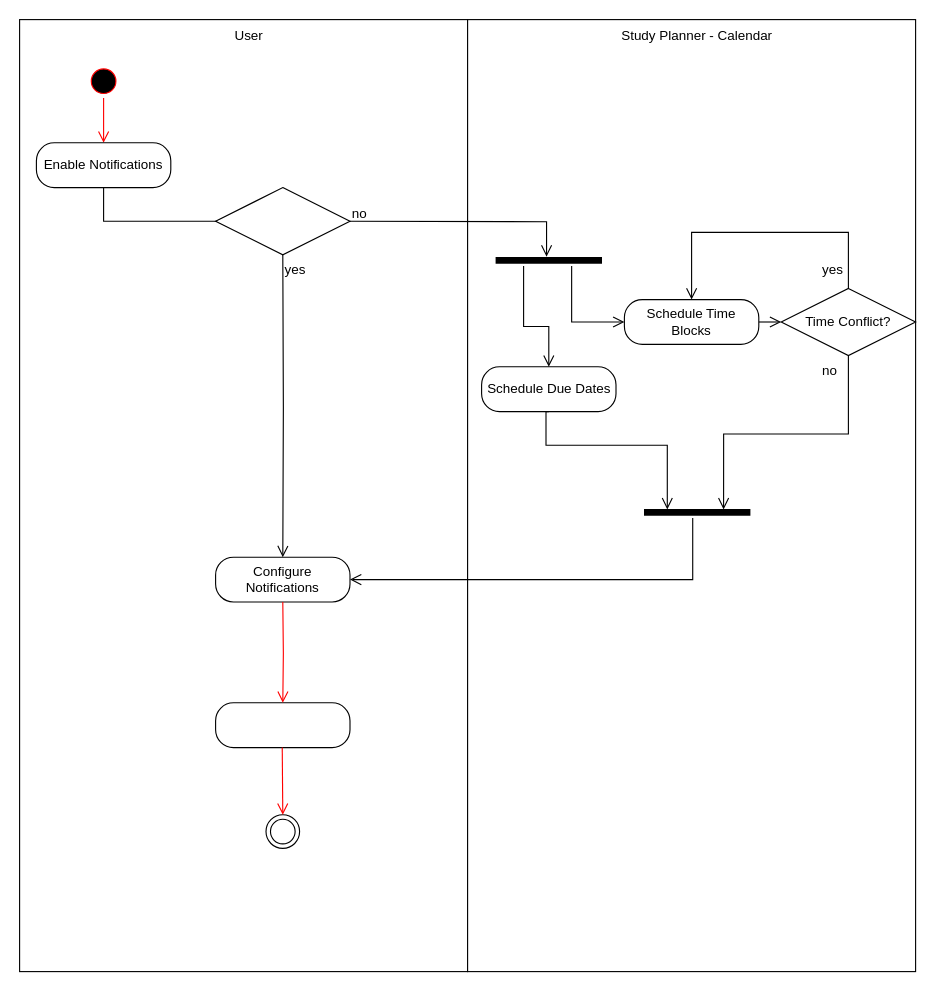
Some shapes in this 935 by 991 pixel diagram are drawn without their labels. The centre of each missing label's shape, as x and y in pixels:
"Have Events?" belongs at point 282,220.
"Receive Notifications" belongs at point 282,725.
